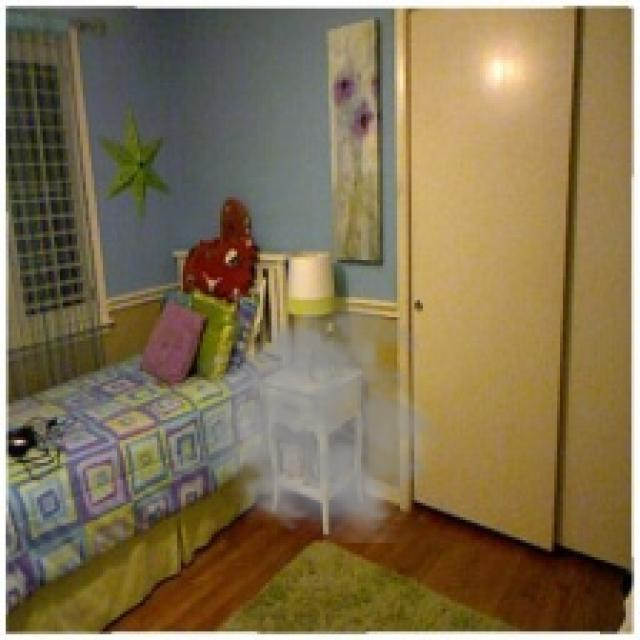Smoke: (186, 286, 446, 543)
